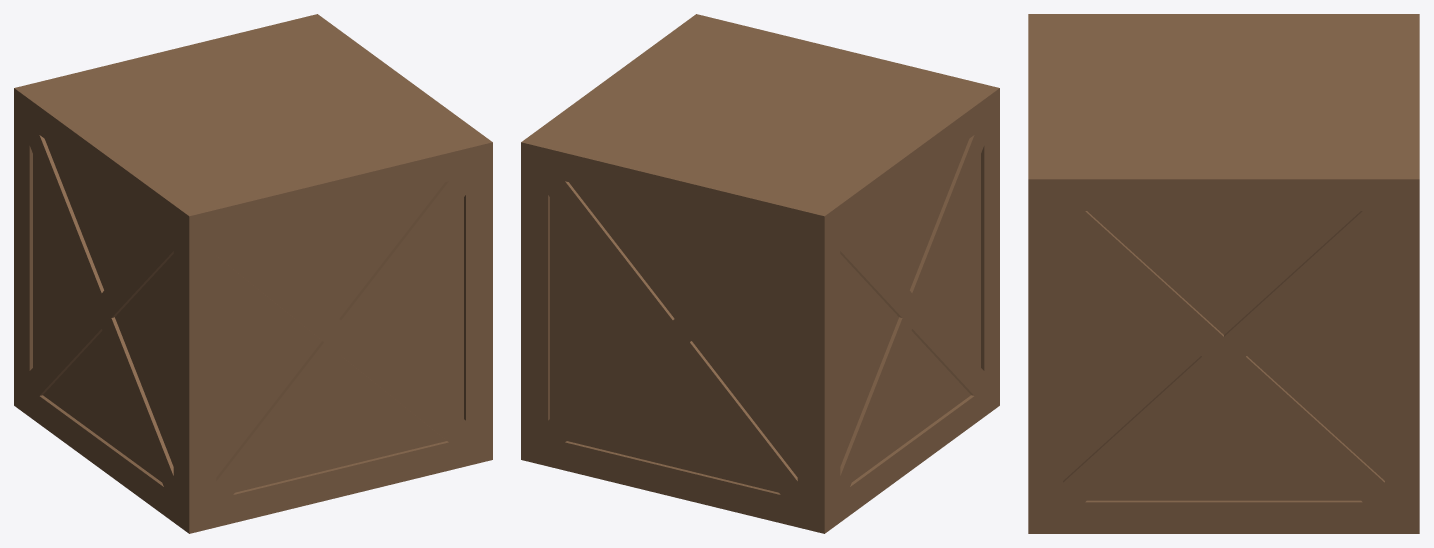
File: Stoles Case.dae
3 renders of one model, left to right at view 1: azimuth 30°, elevation 25°; view 2: azimuth 150°, elevation 25°; view 3: azimuth 270°, elevation 25°, orthographic. The views are drawn at different scales.
Visible parts, largest first — view 1: group_1, group_3, group_5; view 2: group_4, group_3, group_5; view 3: group_2, group_5.
Part boxes in pixels (x1,y1,x2,y2): group_1: (189,142,492,533); group_3: (14,88,189,533); group_5: (14,14,492,216); group_4: (521,142,824,533); group_3: (824,88,999,533); group_5: (521,14,999,216); group_2: (1028,179,1419,533); group_5: (1028,14,1419,179).
Size of the model in its own units: 35.43 by 35.43 by 35.43.
